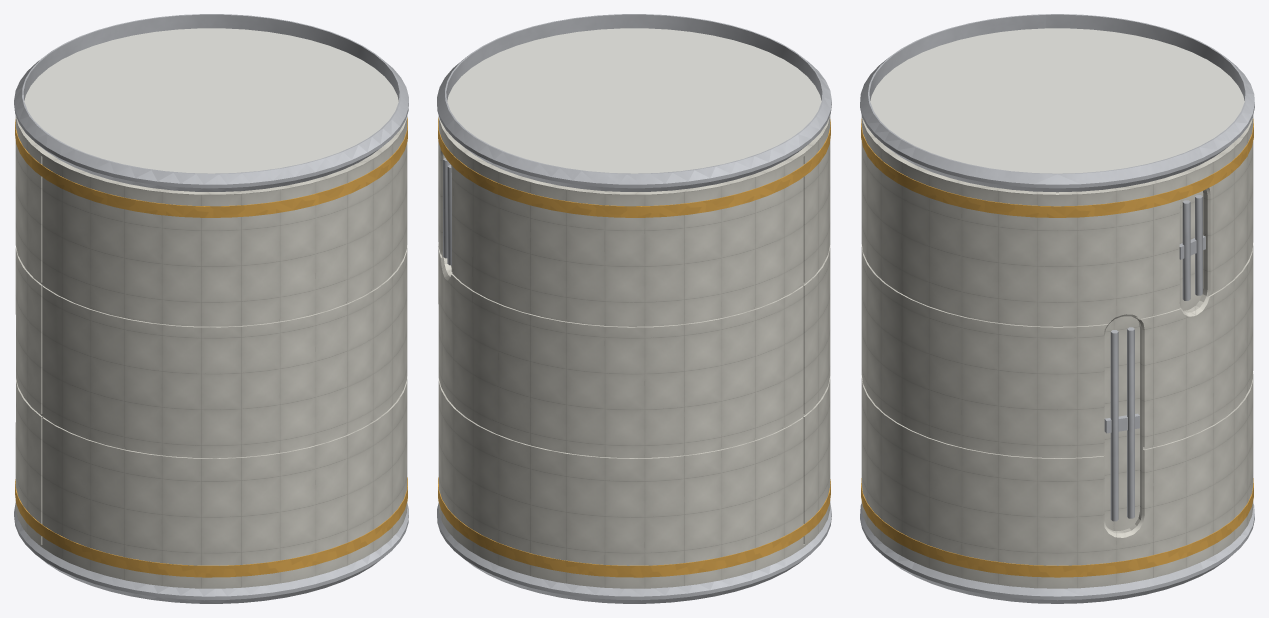
File: ax_tank_05_hydrolox_m_short.glb
3 renders of one model, left to right at view 1: azimuth 30°, elevation 25°; view 2: azimuth 150°, elevation 25°; view 3: azimuth 270°, elevation 25°, orthographic.
Parts seen in each view (by area): view 1: mli_blanket, dome_caps, end_rings, blanket_bands; view 2: mli_blanket, dome_caps, end_rings, blanket_bands, raceway_lines; view 3: mli_blanket, dome_caps, end_rings, blanket_bands, raceway_lines.
Boxes of the visible parts, box(x1,y1,x2,y2) form: mli_blanket: box(15, 116, 407, 588); dome_caps: box(24, 28, 398, 173); end_rings: box(14, 14, 408, 603); blanket_bands: box(15, 117, 407, 577); mli_blanket: box(438, 116, 830, 588); dome_caps: box(447, 28, 821, 173); end_rings: box(437, 14, 831, 603); blanket_bands: box(438, 117, 830, 577); raceway_lines: box(443, 158, 451, 265); mli_blanket: box(861, 116, 1253, 588); dome_caps: box(870, 28, 1244, 173); end_rings: box(860, 14, 1254, 603); blanket_bands: box(861, 119, 1253, 577); raceway_lines: box(1104, 195, 1205, 521).
Size of the model in its own units: 2.5 by 3 by 2.5.
Materials: 4 (3 with a texture image).
